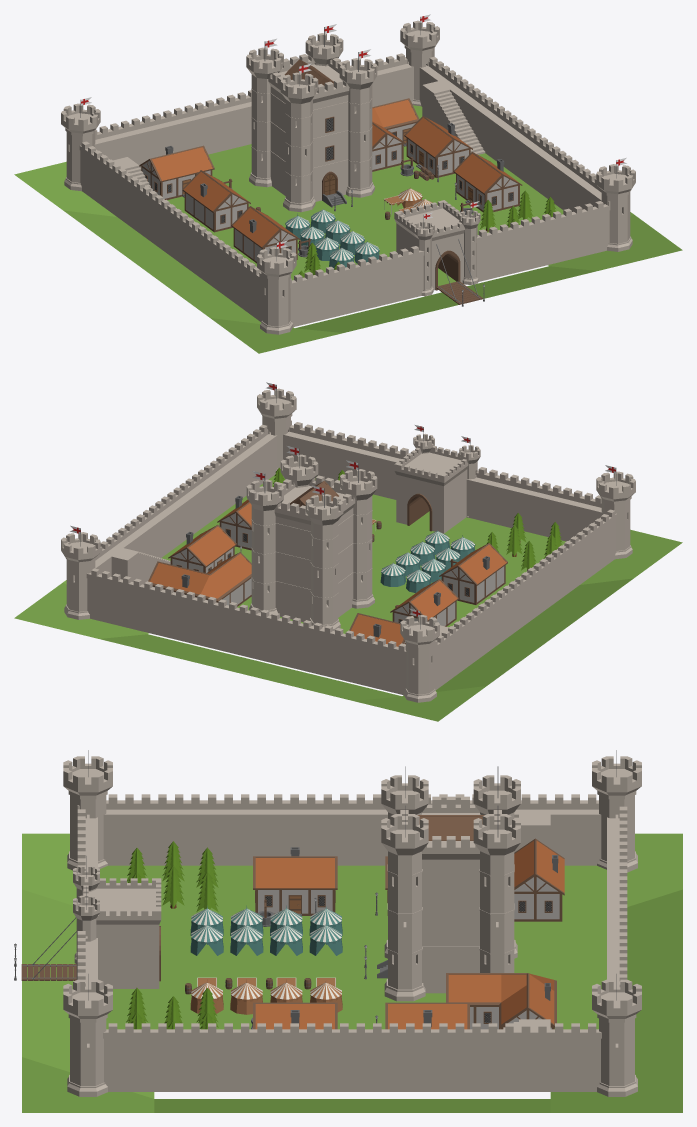
File: Castle1.glb
3 renders of one model, top to bottom at view 1: azimuth 30°, elevation 25°; view 2: azimuth 150°, elevation 25°; view 3: azimuth 270°, elevation 25°, orthographic. The views are drawn at different scales.
Visible parts, largest first — view 1: Castle1Root; view 2: Castle1Root; view 3: Castle1Root.
Part boxes in pixels (<box>): Castle1Root: <box>14,14,682,353</box>; Castle1Root: <box>14,382,682,721</box>; Castle1Root: <box>14,750,682,1112</box>.
Bounding box in the file's own units: 100 × 38.28 × 101.
6 materials, 6 textured.
